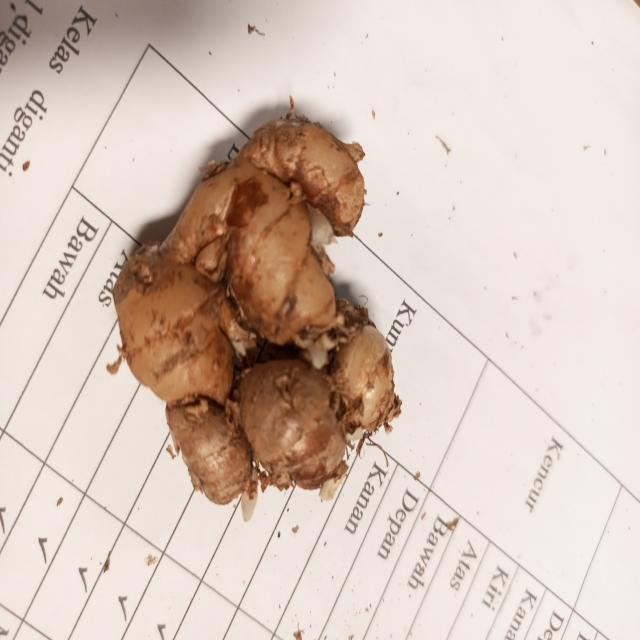ginger: (115, 110, 398, 470)
